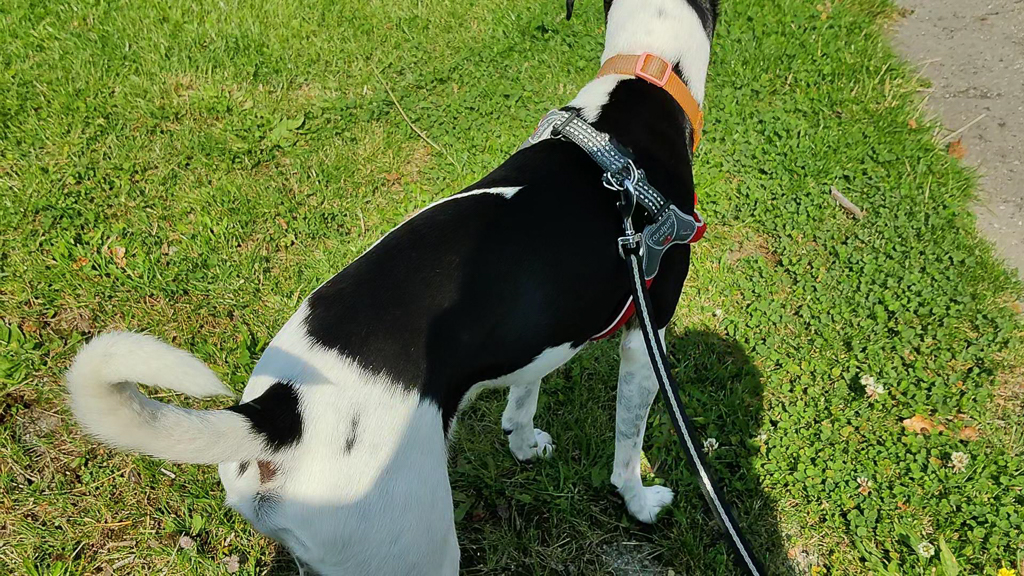Dog: (57, 0, 738, 576)
